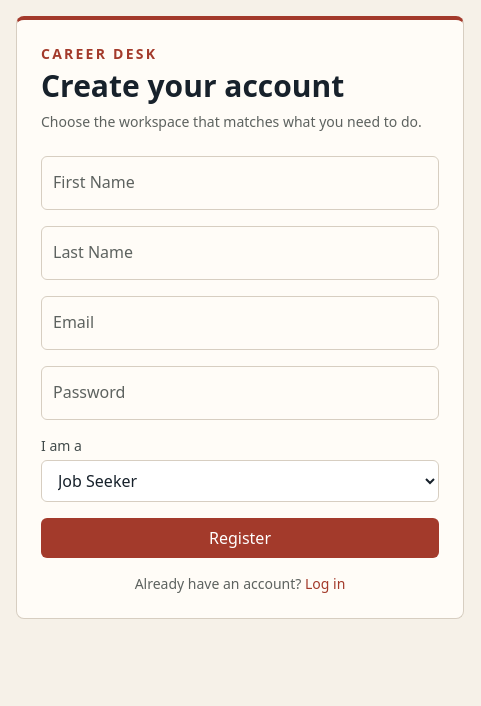
Test case: RegisterPage › reveals the Company Name field when Employer is selected
Select "Employer" in the dropdown labelled "I am a". click: (240, 481)
box: [41, 460, 439, 502]
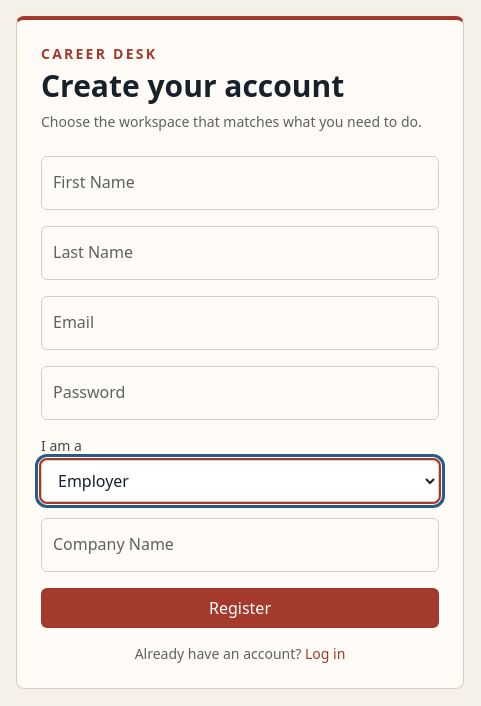
Check: the field labelled "Company Name" is shown, box [41, 518, 439, 572]
